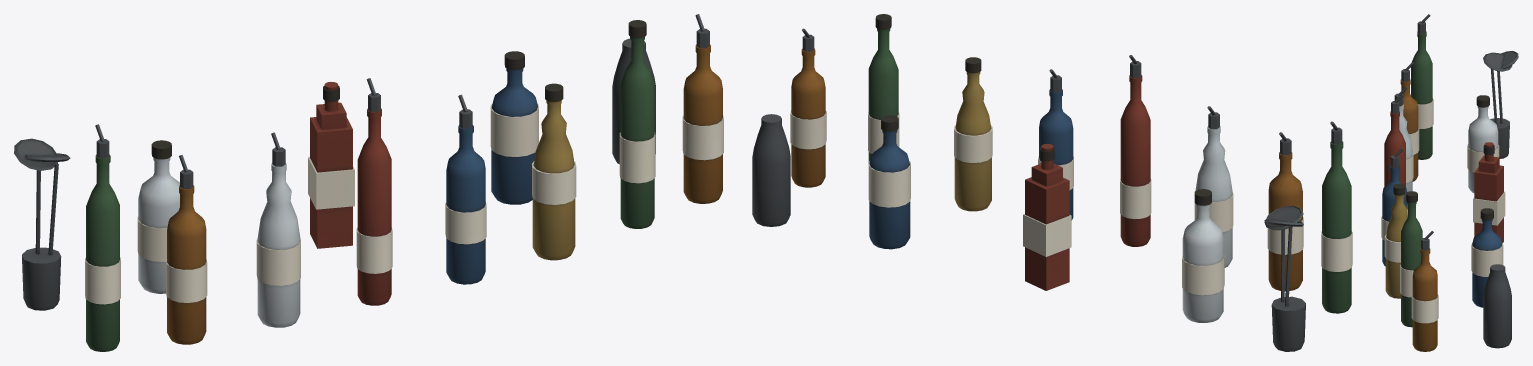
Rendered from bottle_set.glb.
3 views of the same model, side by side, from view 1: azimuth 30°, elevation 25°; view 2: azimuth 150°, elevation 25°; view 3: azimuth 270°, elevation 25° (orthographic). The views are drawn at different scales.
Parts seen in each view (by area): view 1: bottle_set; view 2: bottle_set; view 3: bottle_set.
Boxes of the visible parts, bbox=[...] form: bottle_set: bbox=[14, 14, 723, 351]; bottle_set: bbox=[752, 14, 1352, 351]; bottle_set: bbox=[1381, 14, 1518, 351].
Bounding box in the file's own units: 1.39 × 0.4492 × 0.3941.
Materials: 1 (1 with a texture image).
